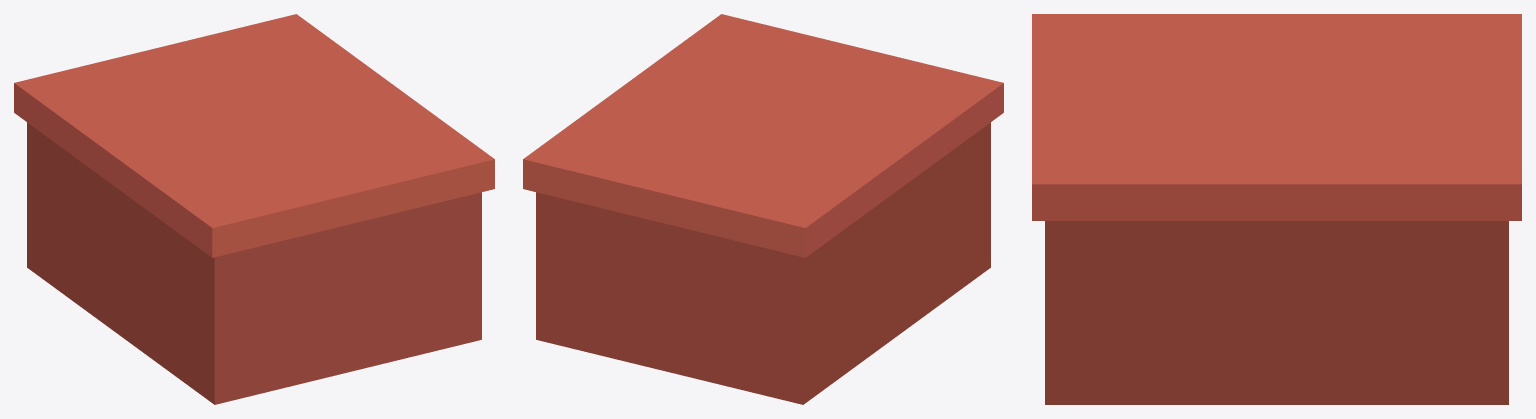
Rendered from ShoeBox3.glb.
The picture shows the model from 3 angles, left to right: view 1: azimuth 30°, elevation 25°; view 2: azimuth 150°, elevation 25°; view 3: azimuth 270°, elevation 25°; orthographic projection. The views are drawn at different scales.
Visible parts, largest first — view 1: SI_Prop_Shoe_Box_03; view 2: SI_Prop_Shoe_Box_03; view 3: SI_Prop_Shoe_Box_03.
Part boxes in pixels (x1,y1,x2,y2): SI_Prop_Shoe_Box_03: [14, 14, 494, 404]; SI_Prop_Shoe_Box_03: [523, 14, 1003, 404]; SI_Prop_Shoe_Box_03: [1032, 14, 1521, 404].
Bounding box in the file's own units: 0.00539 × 0.00333 × 0.00656.
Materials: 1 (1 with a texture image).
